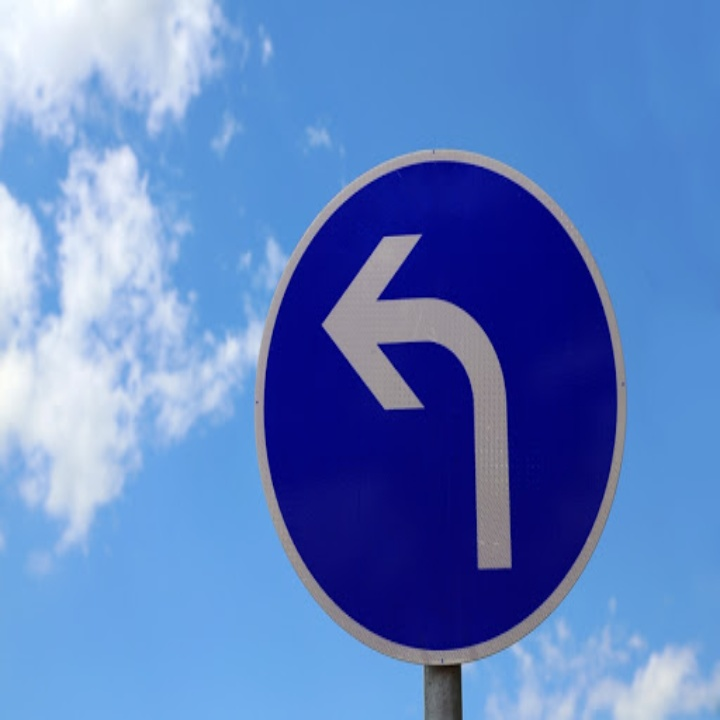left: (311, 227, 536, 590)
